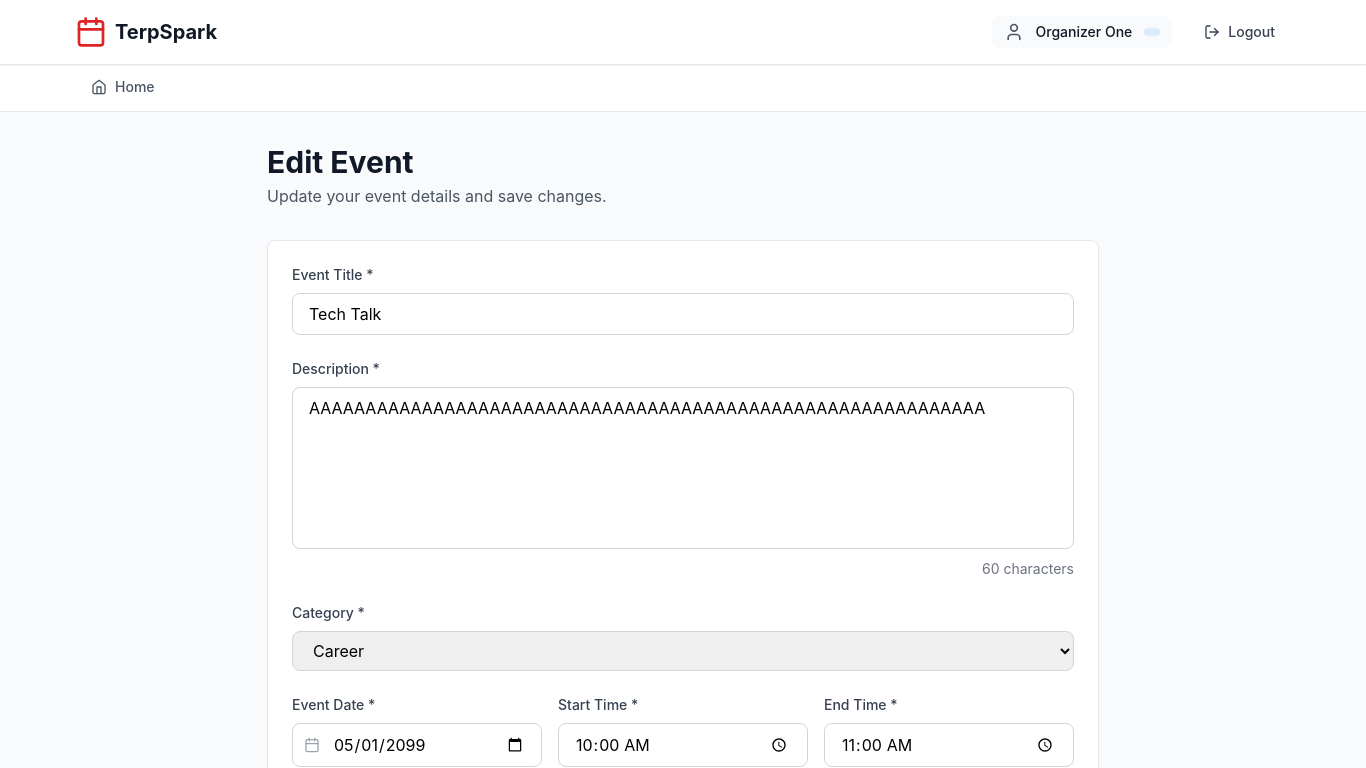
EditEventPage › shows validation error for empty description
This screenshot has width=1366, height=768.
Expected: the heading "Edit Event" is shown, [267,144,414,180]
Clear the text box with placeholder "Provide a detailed description of your event..." at (683, 468), box [292,387,1074,549]
(page scrolled)
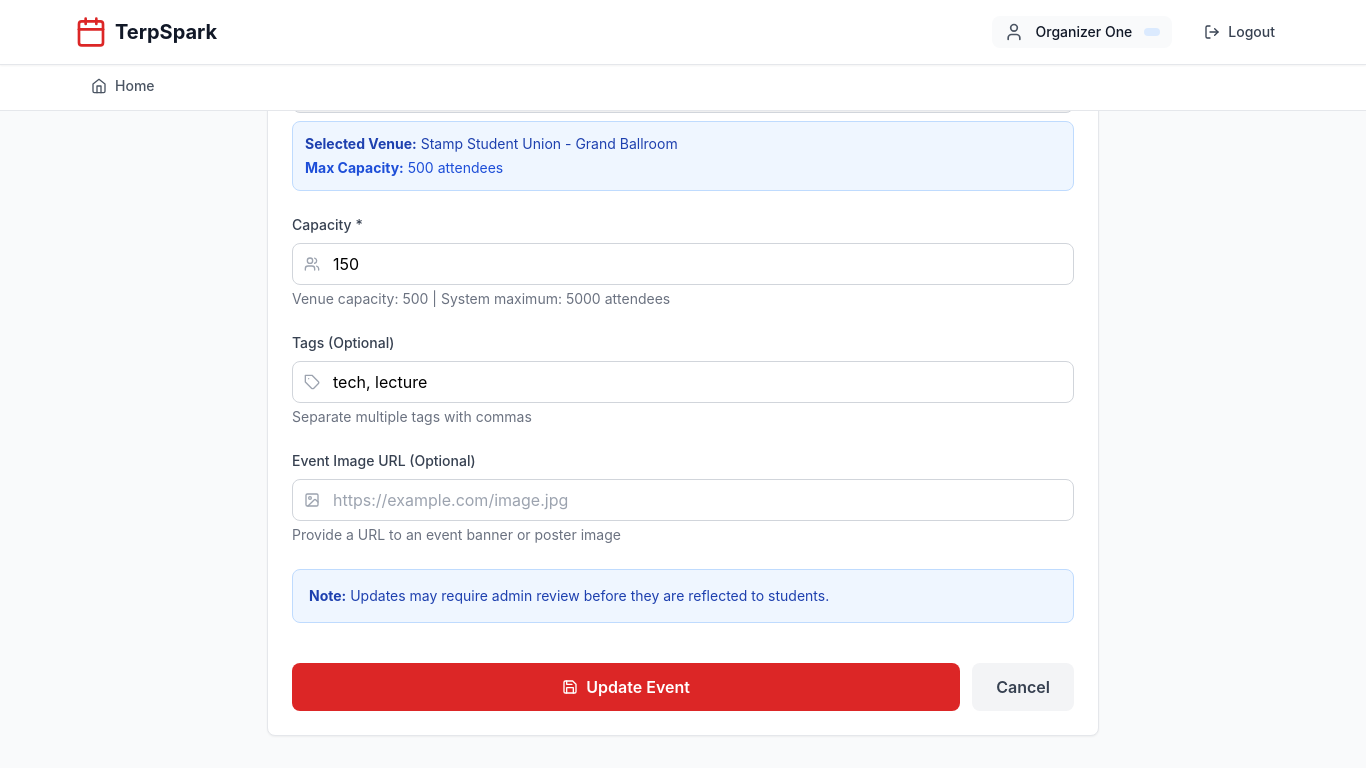
Click the button "Update Event" at (626, 687), box [292,663,960,711]
(page scrolled)
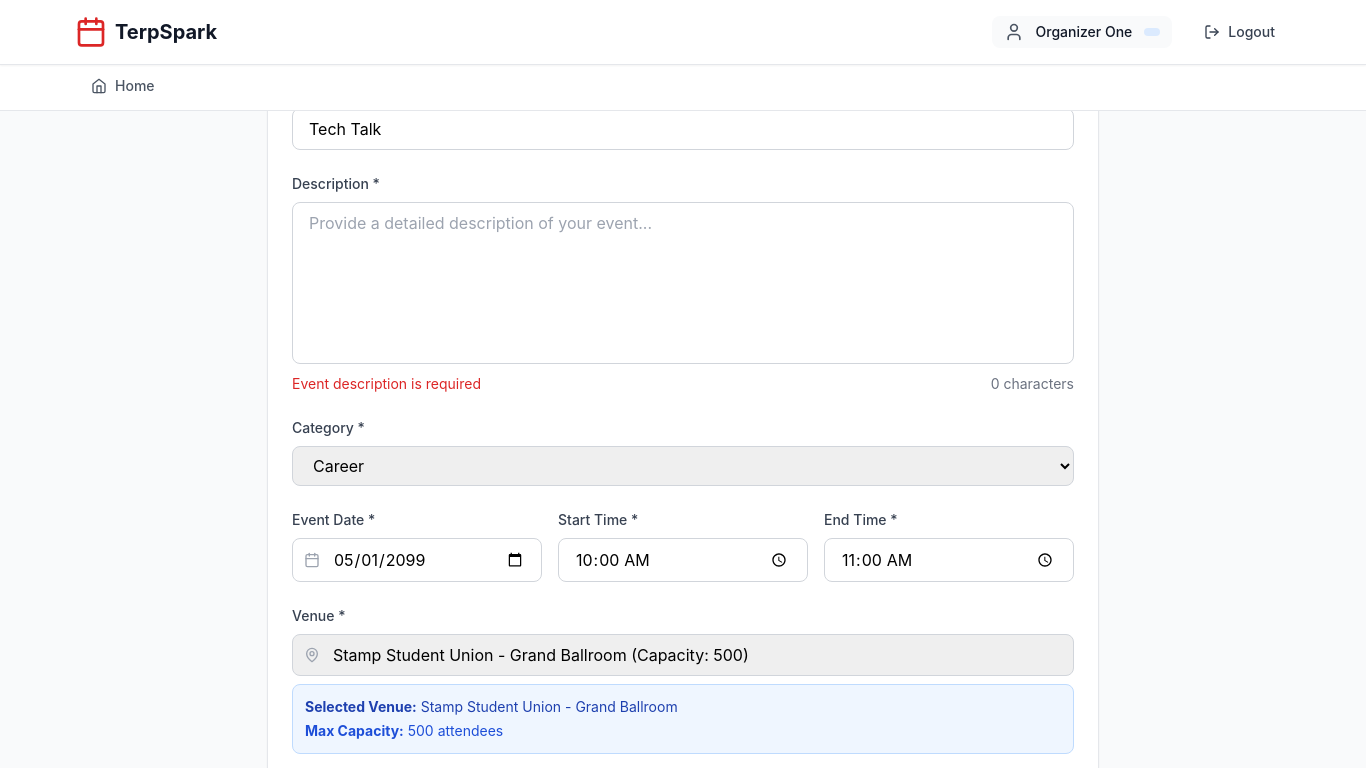
Result: the text "Event description is required" is shown at [292,374,481,394]
